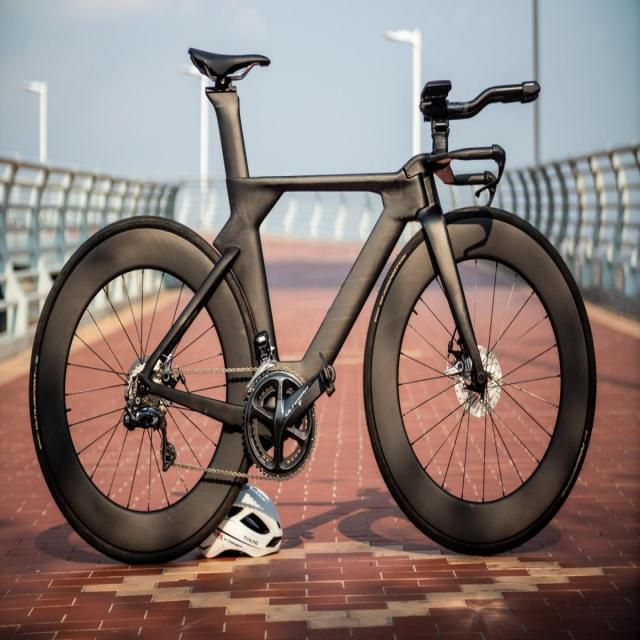TT-bike: (24, 49, 600, 560)
